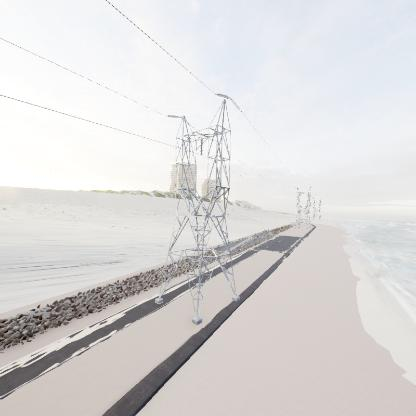tower: (152, 91, 244, 326)
